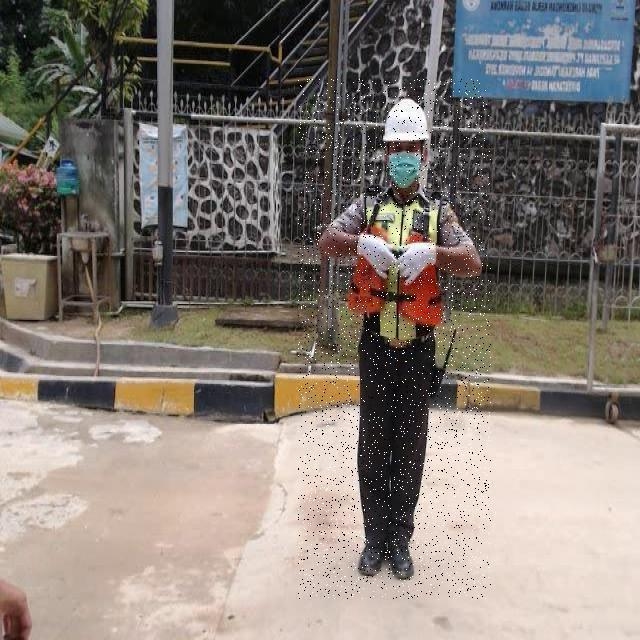helmet: (382, 97, 429, 145)
safety_vest: (349, 193, 440, 341)
